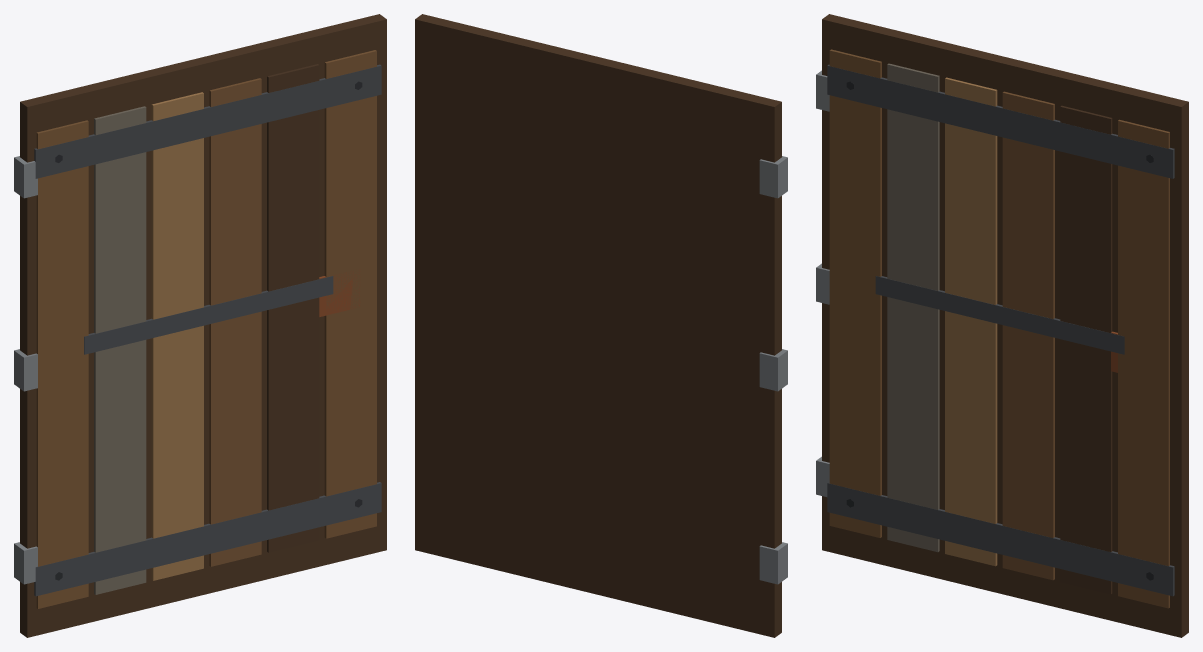
File: piece_door_wood.fbx
3 views of the same model, side by side, from view 1: azimuth 30°, elevation 25°; view 2: azimuth 150°, elevation 25°; view 3: azimuth 330°, elevation 25° (orthographic).
Parts seen in each view (by area): view 1: piece_door_wood; view 2: piece_door_wood; view 3: piece_door_wood.
Boxes of the visible parts, x1,y1,x2,y2 form: piece_door_wood: [14, 14, 386, 637]; piece_door_wood: [415, 14, 787, 637]; piece_door_wood: [816, 14, 1188, 637].
Size of the model in its own units: 1.58 by 2.2 by 0.0775.
